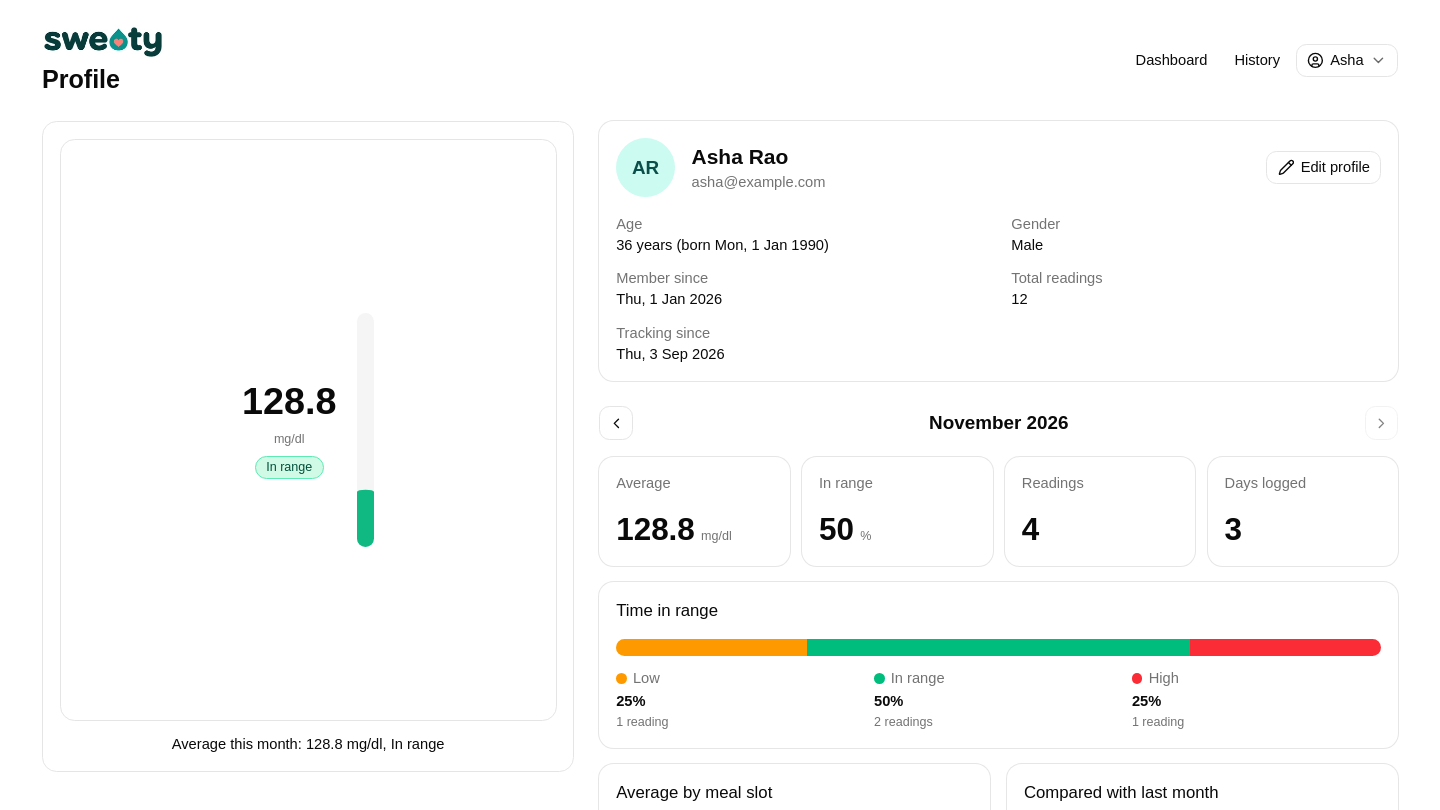
Test: the month picker › asks for the previous month and keeps the month in the URL
The width and height of the screenshot is (1440, 810).
Expected: the text "November 2026" is shown, x1=929 y1=408 x2=1068 y2=438
Click the button named "Previous month" at (616, 423), box x1=600 y1=406 x2=633 y2=440
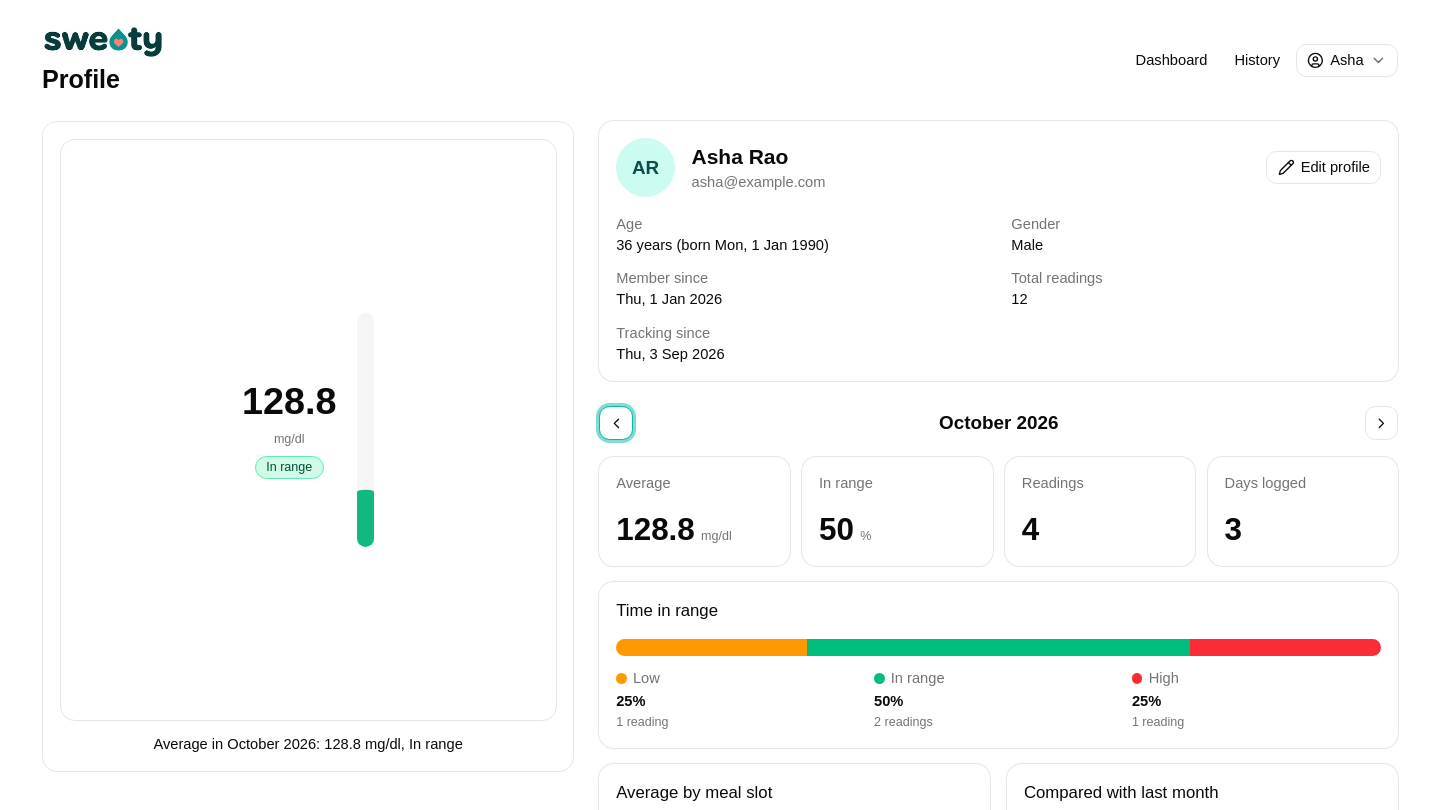
Expected: the button named "Next month" is enabled, x1=1365 y1=406 x2=1398 y2=440
Expected: the text "October 2026" is shown, x1=939 y1=408 x2=1058 y2=438
